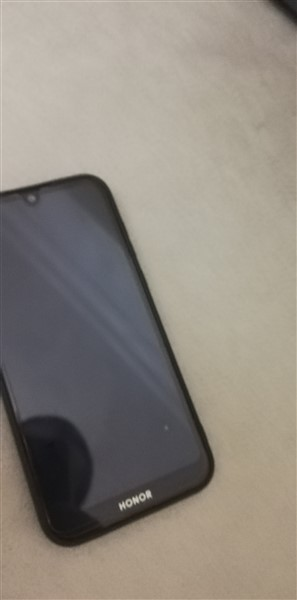telefon: (1, 169, 220, 553)
